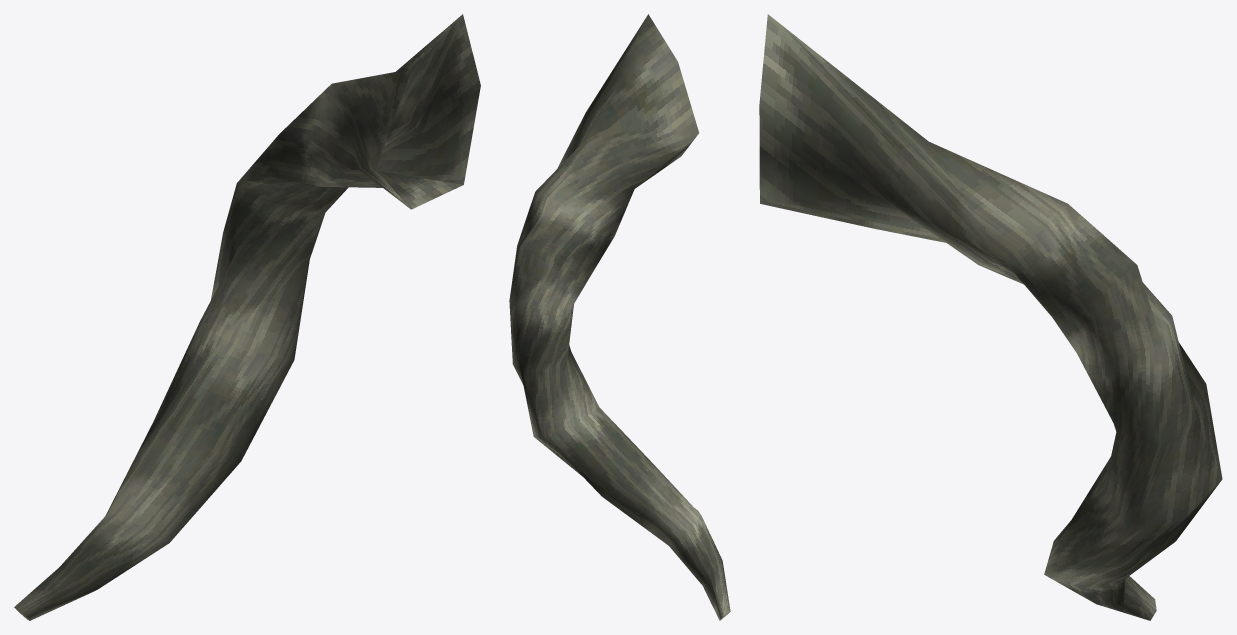
Rendered from TROLLHOLE02_ROOTMAINA13.fbx.
3 views of the same model, side by side, from view 1: azimuth 30°, elevation 25°; view 2: azimuth 150°, elevation 25°; view 3: azimuth 270°, elevation 25° (orthographic). The views are drawn at different scales.
Visible parts, largest first — view 1: TROLLHOLE02_ROOTMAINA13; view 2: TROLLHOLE02_ROOTMAINA13; view 3: TROLLHOLE02_ROOTMAINA13.
Boxes of the visible parts, bbox=[...] form: TROLLHOLE02_ROOTMAINA13: bbox=[14, 14, 480, 620]; TROLLHOLE02_ROOTMAINA13: bbox=[509, 14, 730, 620]; TROLLHOLE02_ROOTMAINA13: bbox=[759, 14, 1222, 620].
Bounding box in the file's own units: 10915 × 21309 × 11829.
1 material, 1 textured.
